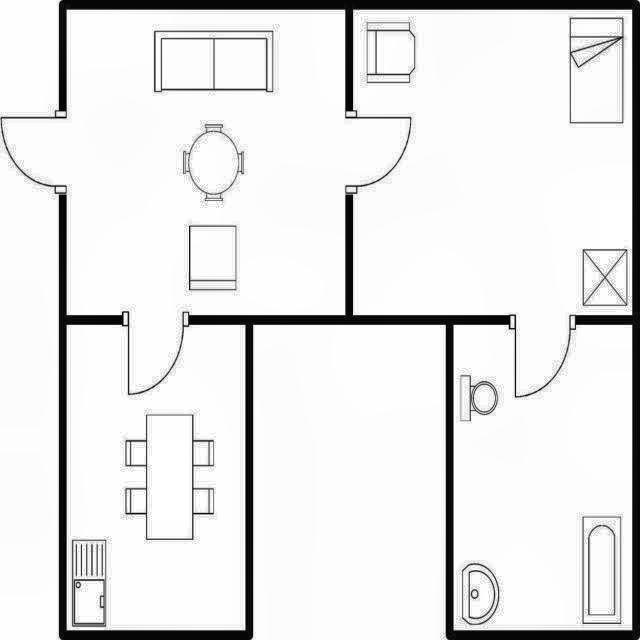room: (353, 10, 632, 315), (67, 9, 345, 315), (453, 324, 632, 630), (66, 325, 245, 630)
